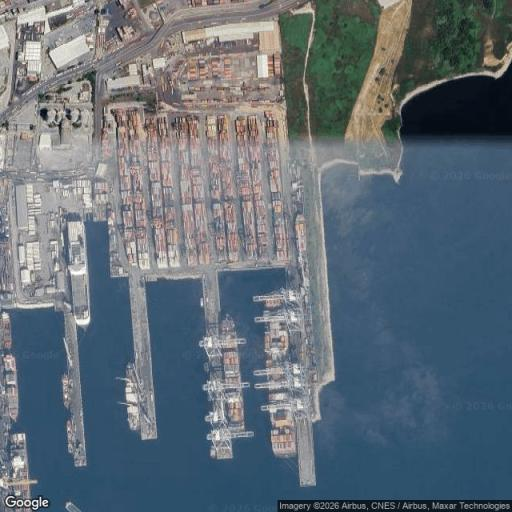ship: (265, 287, 299, 457), (221, 313, 244, 431), (68, 221, 90, 327), (10, 433, 30, 499), (126, 361, 141, 430), (4, 355, 18, 420), (4, 353, 17, 422), (126, 364, 139, 431), (1, 312, 11, 349), (67, 420, 74, 453), (64, 502, 82, 512)
